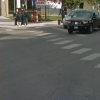Crosswalk: (38, 27, 100, 65)
